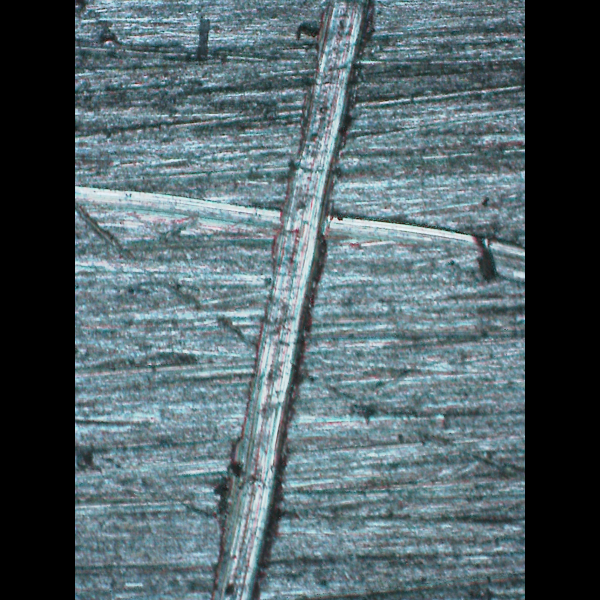d: (204, 0, 384, 595), (76, 178, 525, 264)
